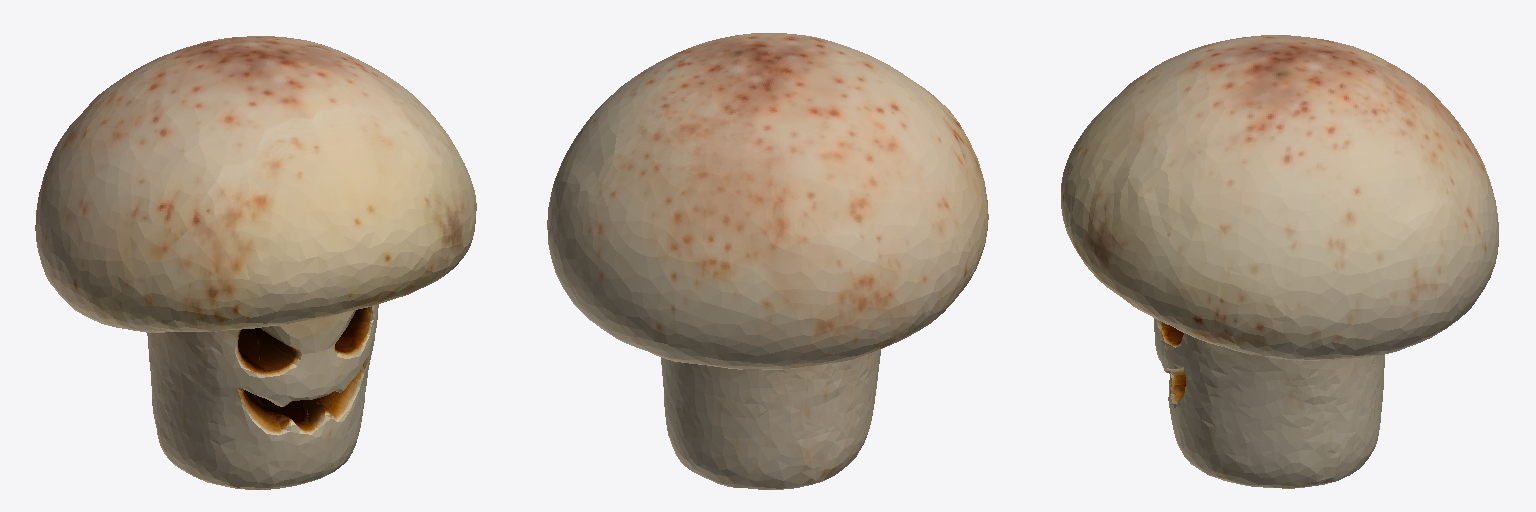
3 views of the same model, side by side, from view 1: azimuth 30°, elevation 25°; view 2: azimuth 150°, elevation 25°; view 3: azimuth 270°, elevation 25° (orthographic).
Parts seen in each view (by area): view 1: Spooky_Shroom_[number redacted]_texture; view 2: Spooky_Shroom_[number redacted]_texture; view 3: Spooky_Shroom_[number redacted]_texture.
Part boxes in pixels (x1,y1,x2,y2): Spooky_Shroom_[number redacted]_texture: (35, 36, 476, 489); Spooky_Shroom_[number redacted]_texture: (547, 33, 988, 489); Spooky_Shroom_[number redacted]_texture: (1061, 35, 1498, 488).
Bounding box in the file's own units: 1.91 × 1.91 × 1.9.
Materials: 1 (1 with a texture image).